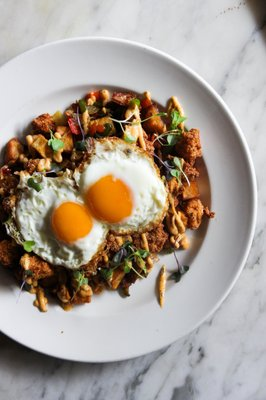sushi: (0, 31, 255, 398)
